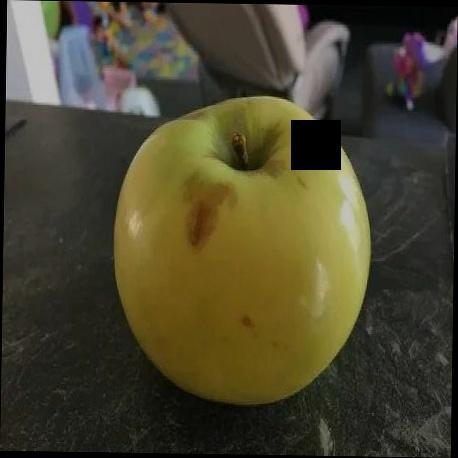green apple: (112, 93, 373, 407)
